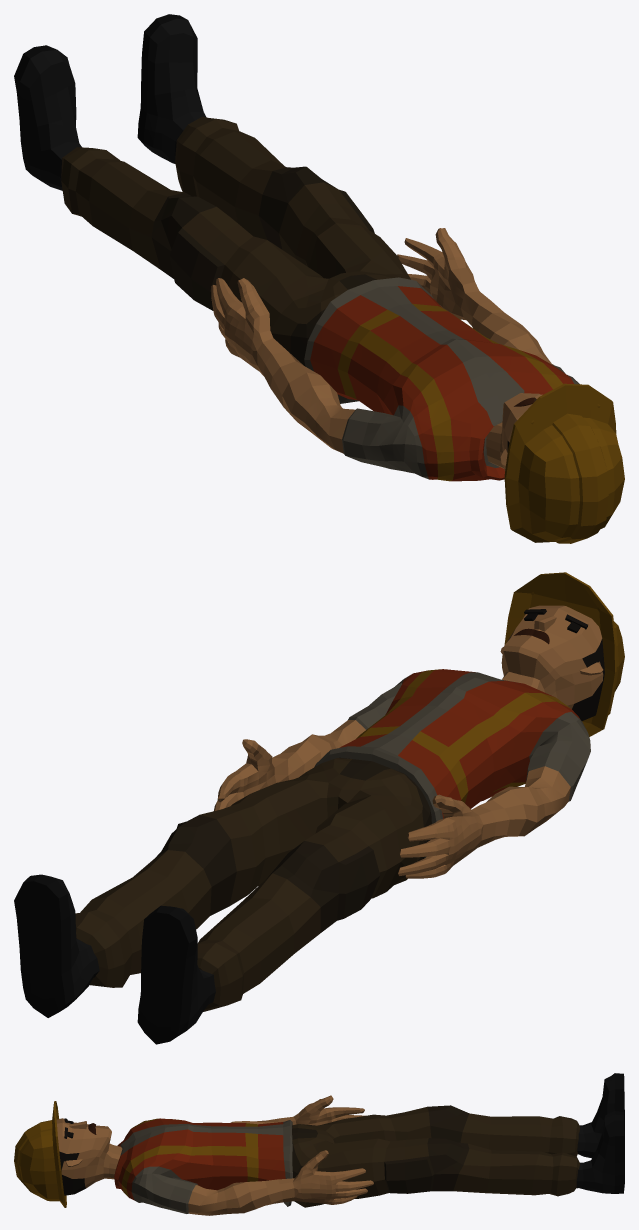
Rendered from worker_baked.obj.
3 views of the same model, one above another, from view 1: azimuth 30°, elevation 25°; view 2: azimuth 150°, elevation 25°; view 3: azimuth 270°, elevation 25° (orthographic). The views are drawn at different scales.
Visible parts, largest first — view 1: Worker_Body, Worker_Legs, Worker_Head, Worker_Feet; view 2: Worker_Legs, Worker_Body, Worker_Feet, Worker_Head; view 3: Worker_Legs, Worker_Body, Worker_Head, Worker_Feet.
Boxes of the visible parts, x1,y1,x2,y2 form: Worker_Body: (211, 228, 579, 481); Worker_Legs: (61, 116, 410, 366); Worker_Head: (486, 383, 624, 543); Worker_Feet: (14, 14, 205, 190); Worker_Legs: (75, 757, 431, 1011); Worker_Body: (214, 669, 590, 878); Worker_Feet: (14, 874, 215, 1044); Worker_Head: (500, 572, 624, 736); Worker_Legs: (292, 1105, 579, 1207); Worker_Body: (114, 1095, 373, 1215); Worker_Head: (14, 1101, 122, 1207); Worker_Feet: (576, 1073, 624, 1193).
Size of the model in its own units: 0.5294 by 0.3686 by 1.86.
